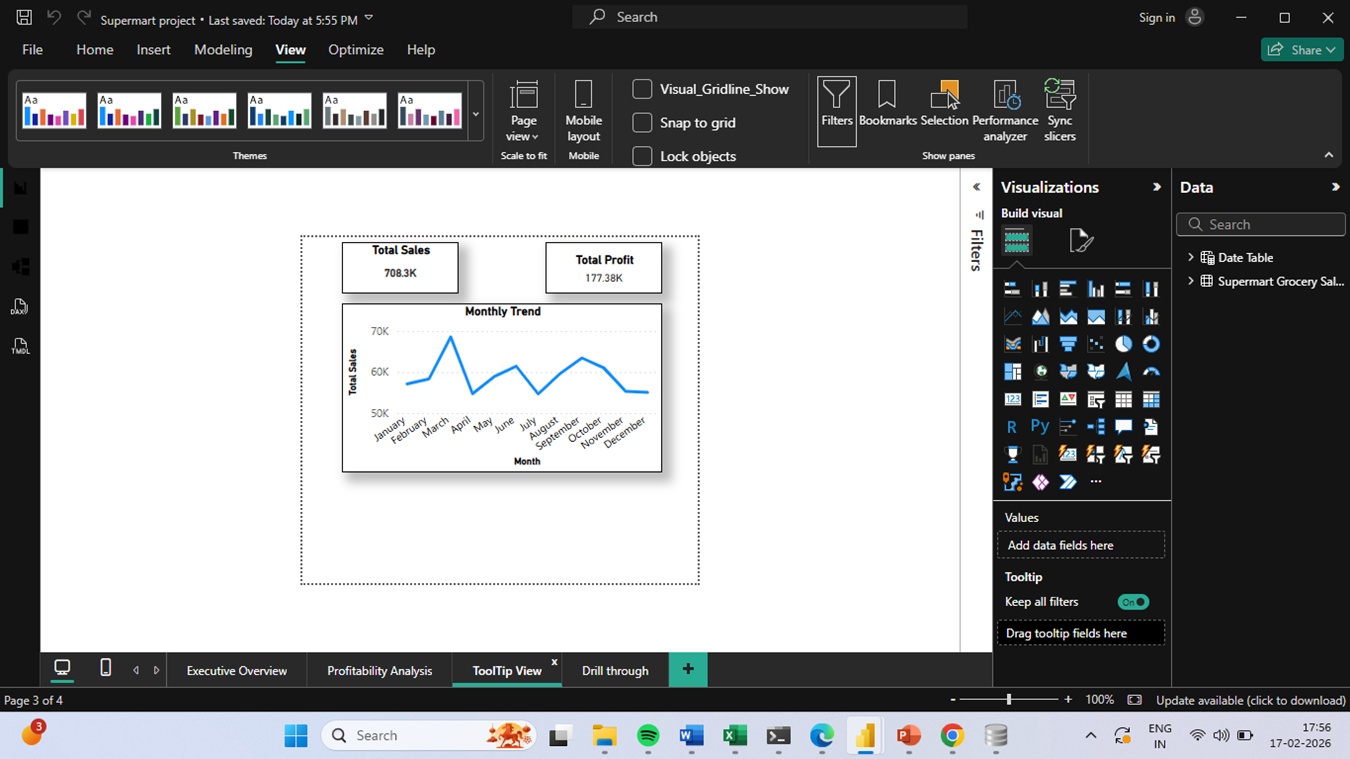

What the dashboard file says about the page in this screenshot:
{"tool":"powerbi","page":{"name":"ToolTip View","canvas":[400,350],"ordinal":2},"visuals":[{"type":"card","title":"Total Sales","fields":{"Values":["Supermart Grocery Sales - Retail Analytics Dataset (1).Total Sales"]},"box":[40,4.5,118.2,52.7],"z":0},{"type":"card","title":"Total Profit","fields":{"Values":["Supermart Grocery Sales - Retail Analytics Dataset (1).Total Profit"]},"box":[246.4,4.5,117.3,52.7],"z":1000},{"type":"lineChart","title":"Monthly Trend","fields":{"Y":["Supermart Grocery Sales - Retail Analytics Dataset (1).Total Sales"],"Category":["Supermart Grocery Sales - Retail Analytics Dataset (1).Order Date.Variation.Date Hierarchy.Month"]},"box":[40,67,324,171],"z":2000}]}

Visuals, with their boxes on the page's 400x350 design canvas (x1, y1, x2, y2). These are canvas units, not pixel positions in the 1350x759 screenshot, which may show the page scaled, cropped or inside an application window:
"Total Sales" card: BBox(40, 4, 158, 57)
"Total Profit" card: BBox(246, 4, 364, 57)
"Monthly Trend" lineChart: BBox(40, 67, 364, 238)
